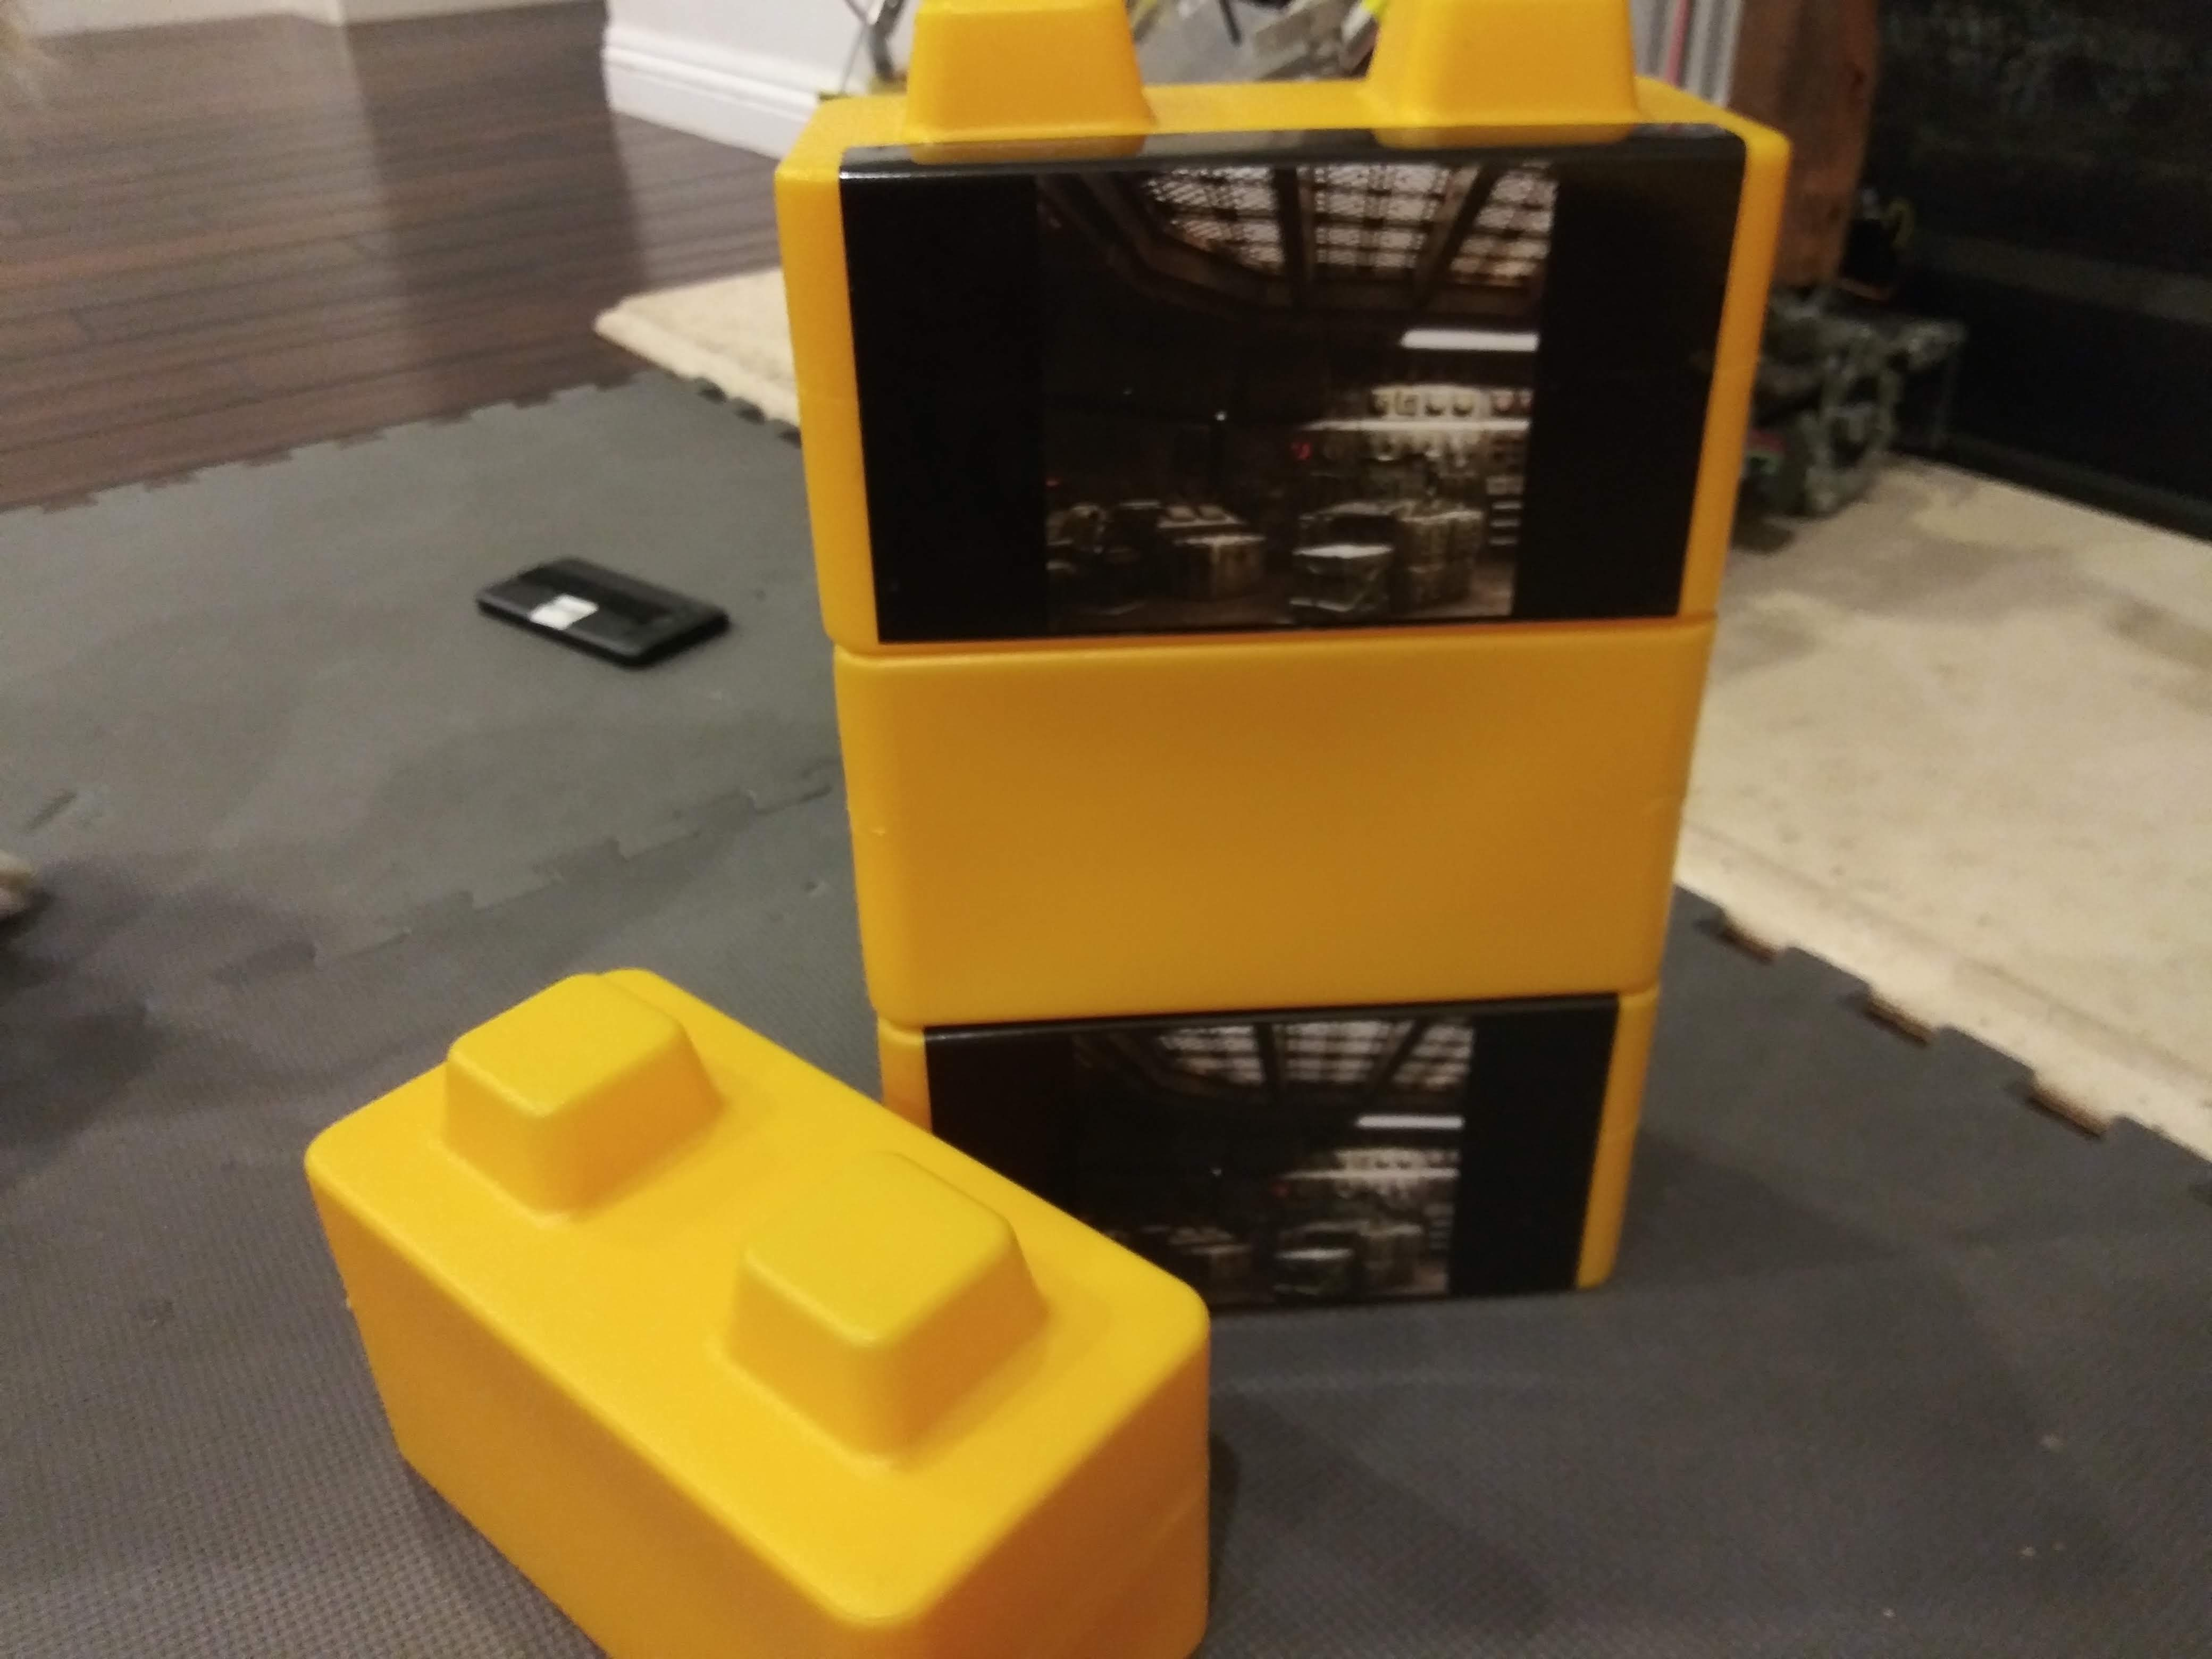skystone: (824, 131, 1705, 615), (1109, 999, 1705, 1317)
stone: (296, 1094, 1162, 1621), (831, 648, 1705, 978)
